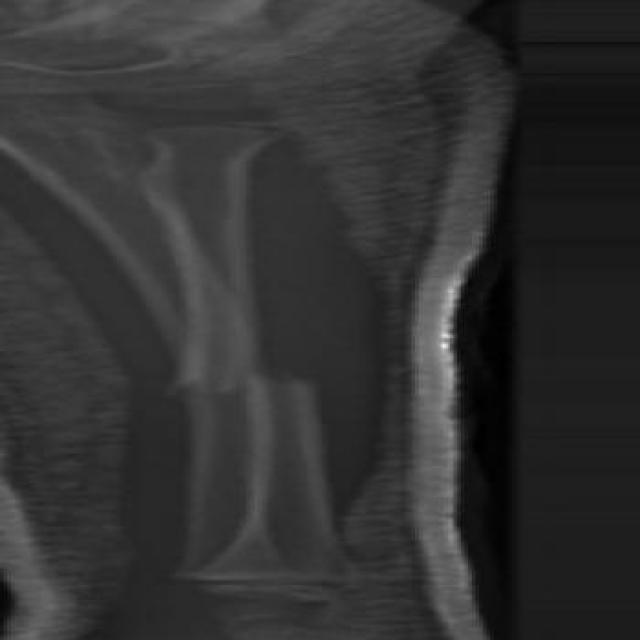Fracture: (158, 358, 334, 408)
